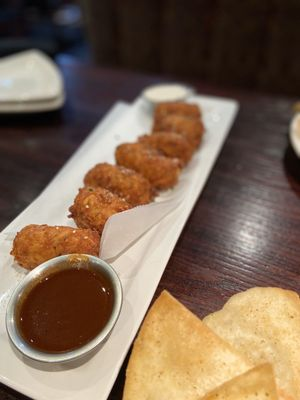sushi: (4, 254, 124, 366)
